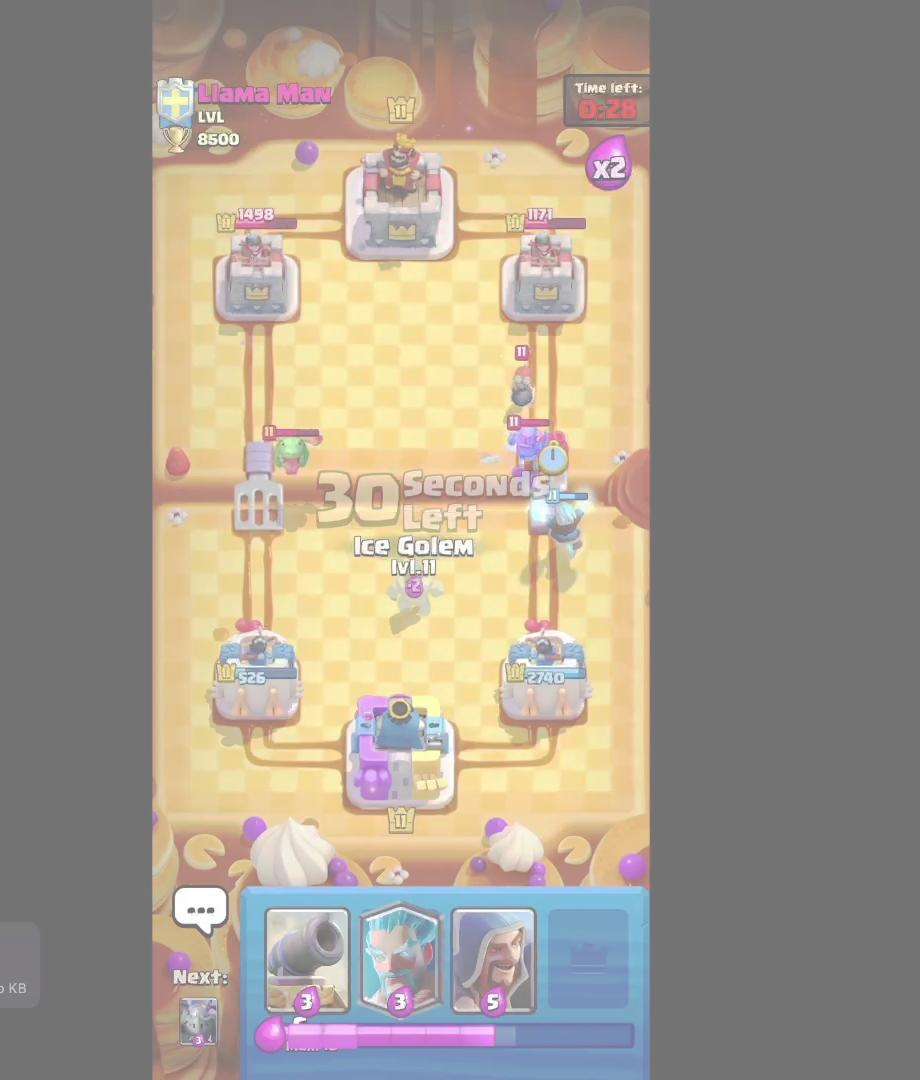Baby Dragon: (250, 394, 328, 488)
Bomber: (498, 344, 550, 406)
Mini Pekka: (503, 409, 560, 464)
